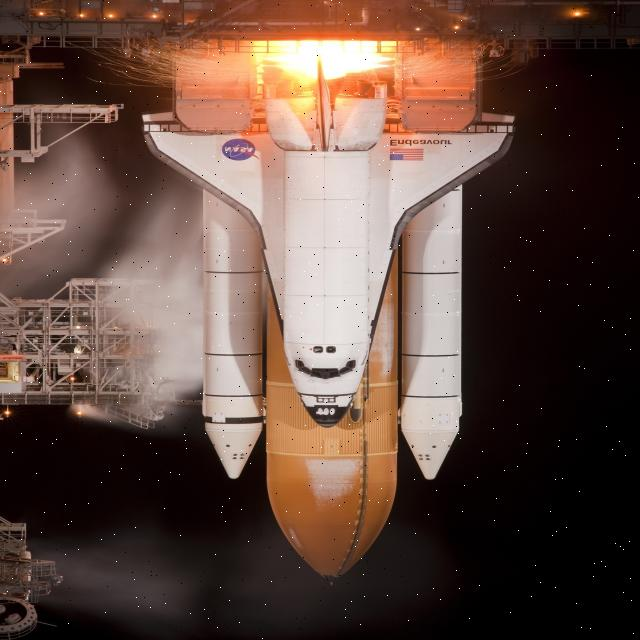rocket: (131, 67, 532, 439)
